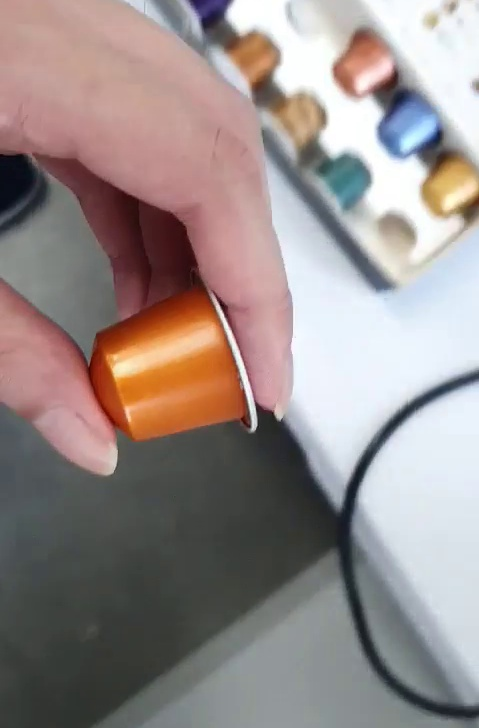capsule_5: (88, 265, 266, 439)
